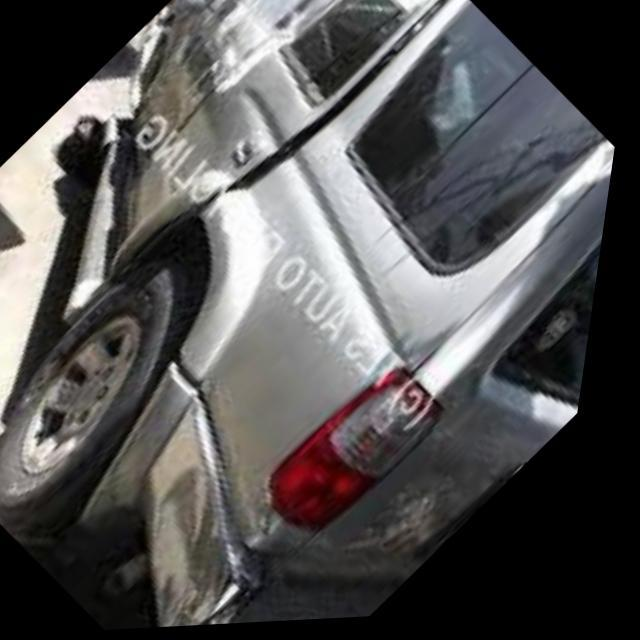dent: (169, 452, 314, 629)
rub: (355, 474, 471, 567)
